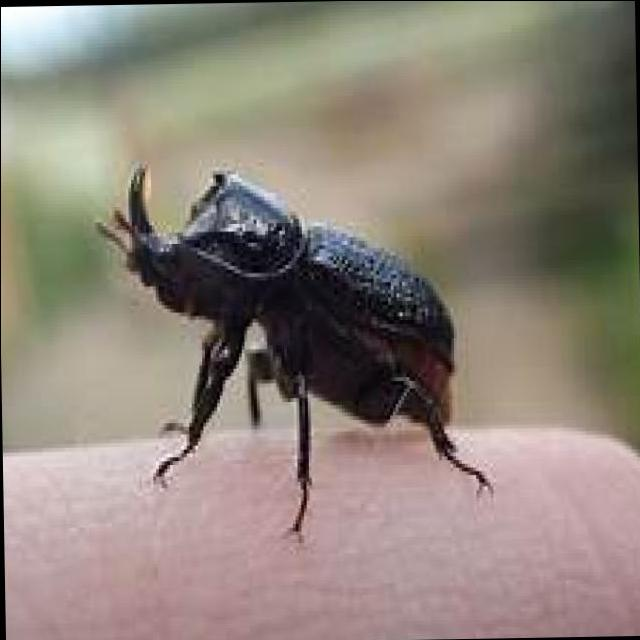Rhino-beetle: (90, 156, 508, 530)
